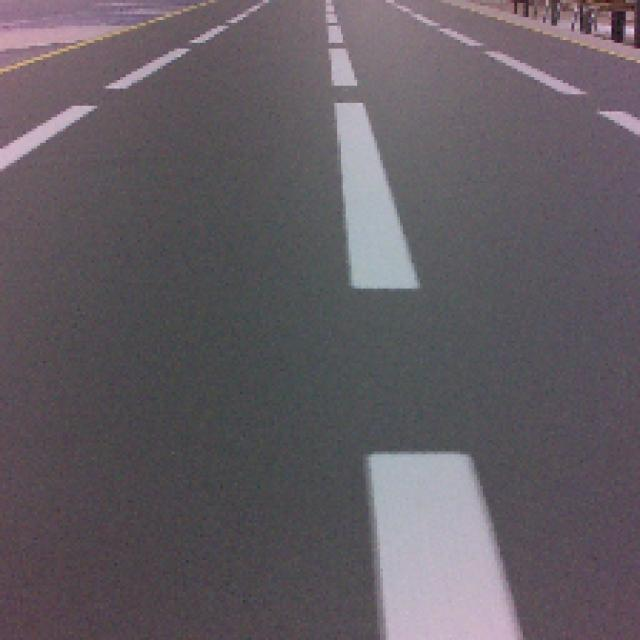Road: (0, 442, 385, 640)
